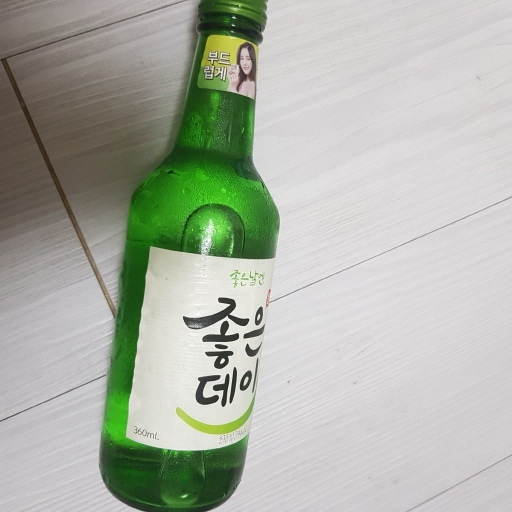Glass_0: (100, 2, 284, 512)
